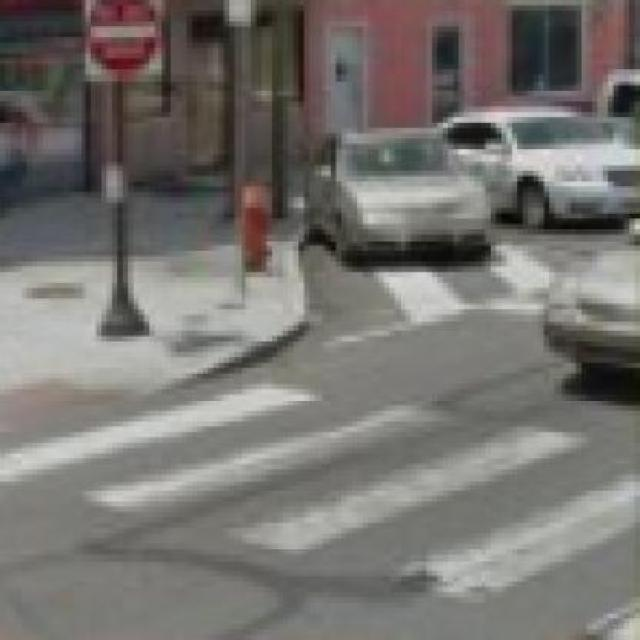crosswalk: (5, 383, 640, 640), (339, 242, 554, 335)
